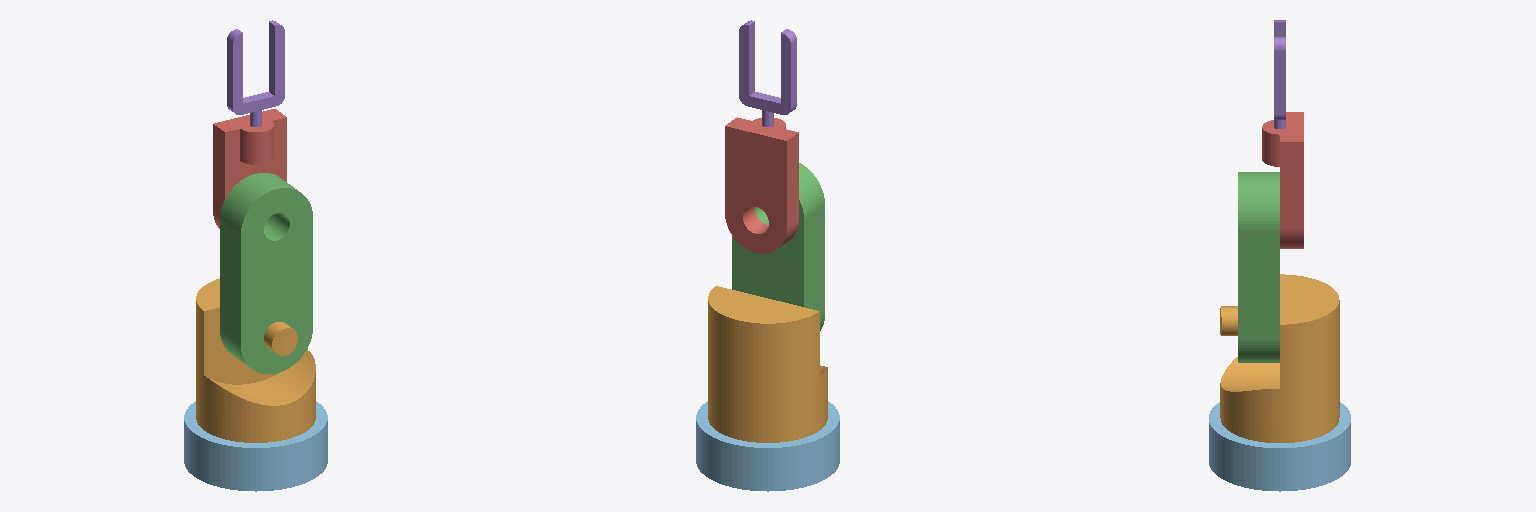
robot.urdf — my-robot:
<?xml version="1.0" ?>
<!-- Generated using onshape-to-robot -->
<!-- Onshape https://cad.onshape.com/documents/596508d30fcb2c414c0d1e6d/w/e9e64c53aa0e4743e4da55a5/e/65f1a2b37f3280c6241ca61a -->
<robot name="my-robot">
  <mujoco>
    <compiler meshdir="assets"/>
  </mujoco>

  <!-- Link part_1 -->
  <link name="part_1">
    <inertial>
      <origin xyz="0 0 0" rpy="0 0 0"/>
      <mass value="1e-09"/>
      <inertia ixx="1e-09" ixy="0" ixz="0" iyy="1e-09" iyz="0" izz="1e-09"/>
    </inertial>
    <!-- Part part_1 -->
    <visual>
      <origin xyz="0 0 0" rpy="0 -0 0"/>
      <geometry>
        <mesh filename="package://assets/part_1.stl"/>
      </geometry>
      <material name="part_1_material">
        <color rgba="0.615686 0.811765 0.929412 1"/>
      </material>
    </visual>
    <collision>
      <origin xyz="0 0 0" rpy="0 -0 0"/>
      <geometry>
        <mesh filename="package://assets/part_1.stl"/>
      </geometry>
    </collision>
  </link>

  <!-- Link part_2 -->
  <link name="part_2">
    <inertial>
      <origin xyz="0 0 0" rpy="0 0 0"/>
      <mass value="1e-09"/>
      <inertia ixx="1e-09" ixy="0" ixz="0" iyy="1e-09" iyz="0" izz="1e-09"/>
    </inertial>
    <visual>
      <origin xyz="0 0 0" rpy="0 0 0"/>
      <geometry>
        <mesh filename="package://assets/part_2.stl"/>
      </geometry>
      <material name="part_2_material">
        <color rgba="0.929412 0.709804 0.384314 1"/>
      </material>
    </visual>
    <collision>
      <origin xyz="0 0 0" rpy="0 0 0"/>
      <geometry>
        <mesh filename="package://assets/part_2.stl"/>
      </geometry>
    </collision>
  </link>

  <!-- Link part_3 -->
  <link name="part_3">
    <inertial>
      <origin xyz="0 0 0" rpy="0 0 0"/>
      <mass value="1e-09"/>
      <inertia ixx="1e-09" ixy="0" ixz="0" iyy="1e-09" iyz="0" izz="1e-09"/>
    </inertial>
    <visual>
      <origin xyz="0 0 0" rpy="0 0 0"/>
      <geometry>
        <mesh filename="package://assets/part_3.stl"/>
      </geometry>
      <material name="part_3_material">
        <color rgba="0.494118 0.752941 0.482353 1"/>
      </material>
    </visual>
    <collision>
      <origin xyz="0 0 0" rpy="0 0 0"/>
      <geometry>
        <mesh filename="package://assets/part_3.stl"/>
      </geometry>
    </collision>
  </link>

  <!-- Link part_4 -->
  <link name="part_4">
    <inertial>
      <origin xyz="0 0 0" rpy="0 0 0"/>
      <mass value="1e-09"/>
      <inertia ixx="1e-09" ixy="0" ixz="0" iyy="1e-09" iyz="0" izz="1e-09"/>
    </inertial>
    <visual>
      <origin xyz="0 0 0" rpy="0 0 0"/>
      <geometry>
        <mesh filename="package://assets/part_4.stl"/>
      </geometry>
      <material name="part_4_material">
        <color rgba="0.858824 0.47451 0.443137 1"/>
      </material>
    </visual>
    <collision>
      <origin xyz="0 0 0" rpy="0 0 0"/>
      <geometry>
        <mesh filename="package://assets/part_4.stl"/>
      </geometry>
    </collision>
  </link>

  <!-- Link part_5 -->
  <link name="part_5">
    <inertial>
      <origin xyz="0 0 0" rpy="0 0 0"/>
      <mass value="1e-09"/>
      <inertia ixx="1e-09" ixy="0" ixz="0" iyy="1e-09" iyz="0" izz="1e-09"/>
    </inertial>
    <visual>
      <origin xyz="0 0 0" rpy="0 0 0"/>
      <geometry>
        <mesh filename="package://assets/part_5.stl"/>
      </geometry>
      <material name="part_5_material">
        <color rgba="0.678431 0.560784 0.835294 1"/>
      </material>
    </visual>
    <collision>
      <origin xyz="0 0 0" rpy="0 0 0"/>
      <geometry>
        <mesh filename="package://assets/part_5.stl"/>
      </geometry>
    </collision>
  </link>

  <joint name="part_1_to_part_2" type="fixed">
    <parent link="part_1"/>
    <child link="part_2"/>
    <origin xyz="0 0 0" rpy="0 0 0"/>
  </joint>

  <joint name="part_1_to_part_3" type="fixed">
    <parent link="part_1"/>
    <child link="part_3"/>
    <origin xyz="0 0 0" rpy="0 0 0"/>
  </joint>

  <joint name="part_1_to_part_4" type="fixed">
    <parent link="part_1"/>
    <child link="part_4"/>
    <origin xyz="0 0 0" rpy="0 0 0"/>
  </joint>

  <joint name="part_1_to_part_5" type="fixed">
    <parent link="part_1"/>
    <child link="part_5"/>
    <origin xyz="0 0 0" rpy="0 0 0"/>
  </joint>
</robot>

--- What the picture shows (computed from the rendered views, not written in the file) ---
The picture shows the robot from 3 angles, left to right: view 1: azimuth 30°, elevation 25°; view 2: azimuth 150°, elevation 25°; view 3: azimuth 270°, elevation 25°; orthographic projection.
Robot: my-robot — 5 links, 4 joints (4 fixed); root link part_1; default pose: all joints at 0.
Links seen in each view (by area): view 1: part_3, part_2, part_1, part_4, part_5; view 2: part_2, part_4, part_1, part_3, part_5; view 3: part_2, part_3, part_1, part_4, part_5.
Link boxes in pixels (bbox=[...]): part_3: bbox=[220, 173, 312, 373]; part_2: bbox=[196, 278, 315, 442]; part_1: bbox=[184, 401, 327, 491]; part_4: bbox=[213, 109, 286, 228]; part_5: bbox=[227, 20, 284, 126]; part_2: bbox=[708, 286, 827, 442]; part_4: bbox=[725, 117, 798, 253]; part_1: bbox=[696, 401, 839, 491]; part_3: bbox=[732, 163, 824, 330]; part_5: bbox=[739, 20, 796, 126]; part_2: bbox=[1220, 274, 1339, 442]; part_3: bbox=[1238, 172, 1279, 362]; part_1: bbox=[1209, 402, 1350, 491]; part_4: bbox=[1262, 112, 1303, 248]; part_5: bbox=[1274, 20, 1285, 128].
Bounding box of the posed robot: 0.12 × 0.12 × 0.4 m (x, y, z).
5 mesh visuals loaded from 5 distinct referenced files (5 binary STL).
